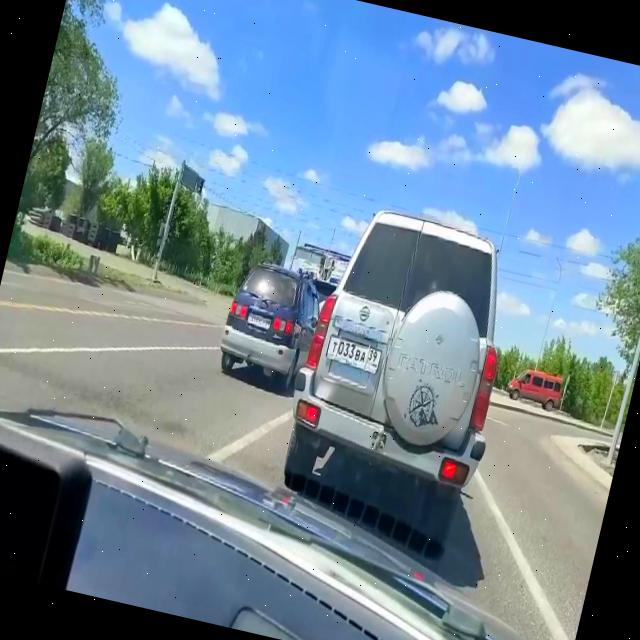License-plate: (324, 332, 383, 379), (247, 310, 274, 330)
